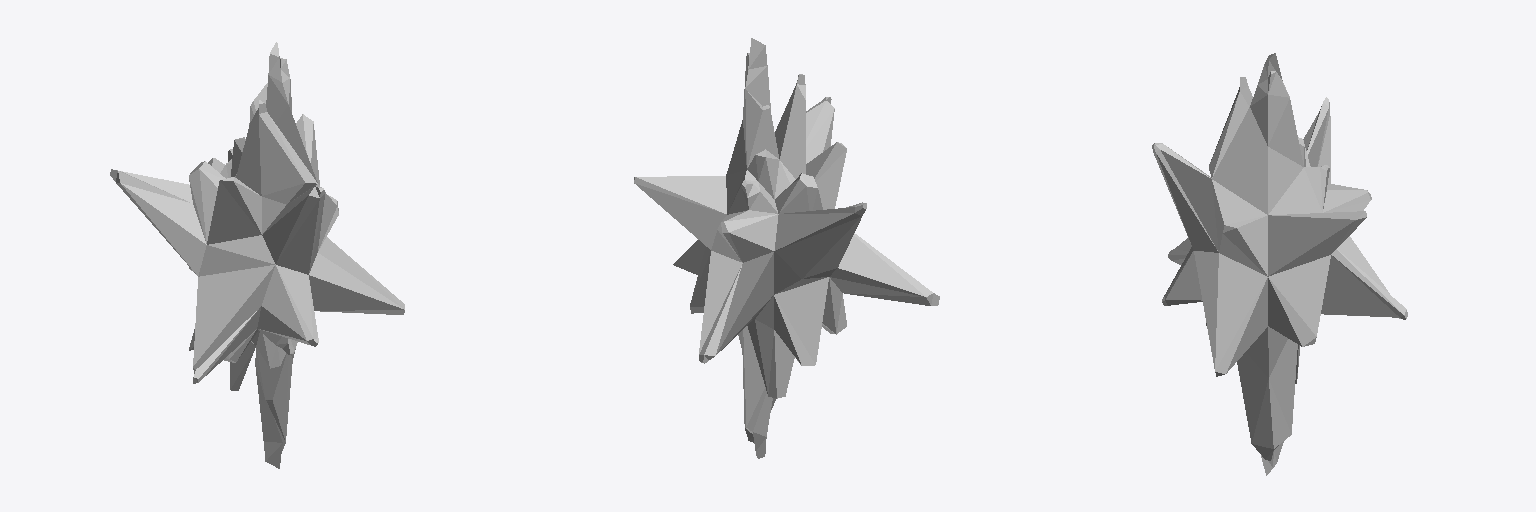
File: testAst3.obj
3 renders of one model, left to right at view 1: azimuth 30°, elevation 25°; view 2: azimuth 150°, elevation 25°; view 3: azimuth 270°, elevation 25°, orthographic.
Parts seen in each view (by area): view 1: Astroid_Mesh; view 2: Astroid_Mesh; view 3: Astroid_Mesh.
Part boxes in pixels (x1,y1,x2,y2): Astroid_Mesh: (110, 42, 404, 468); Astroid_Mesh: (634, 38, 939, 458); Astroid_Mesh: (1152, 53, 1407, 475).
Bounding box in the file's own units: 7.76 × 12.87 × 7.04.